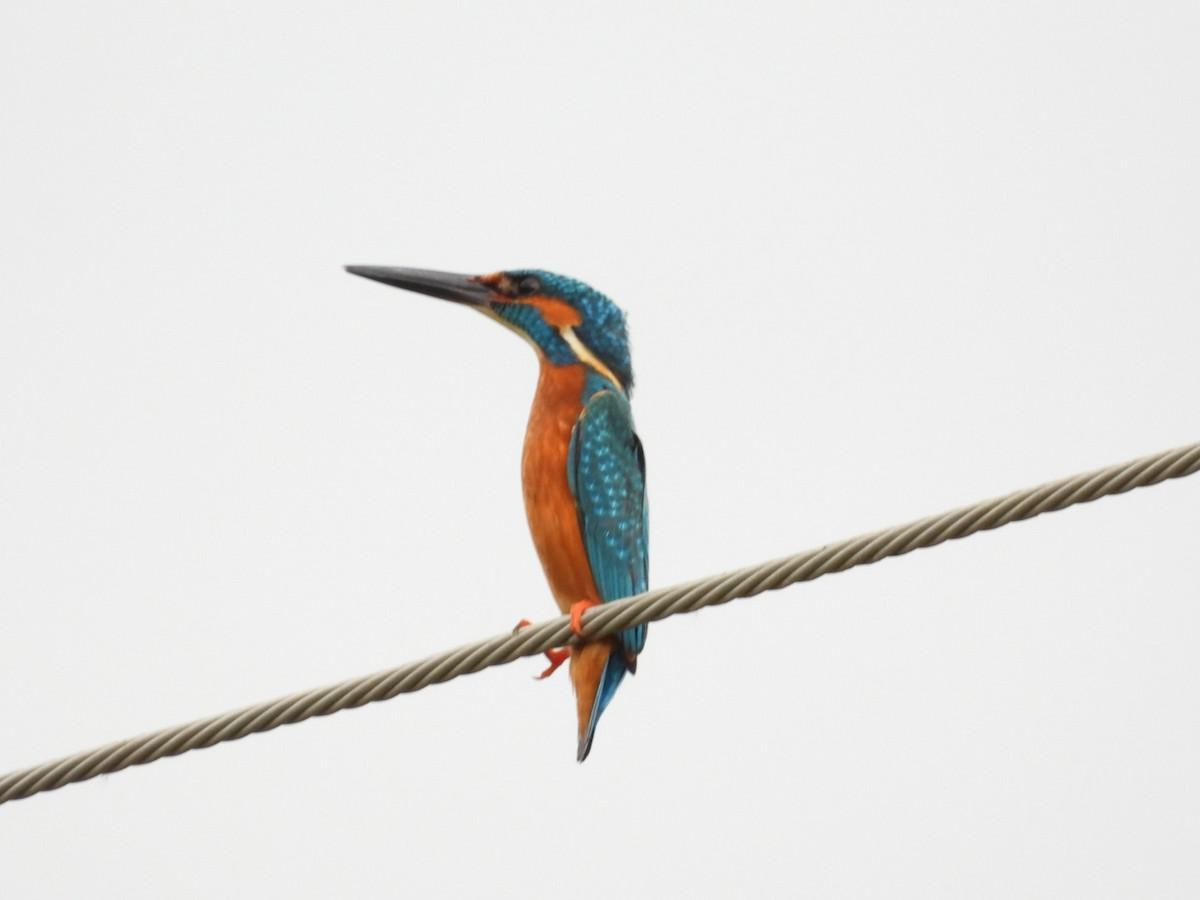kingfisher: (344, 250, 697, 744)
